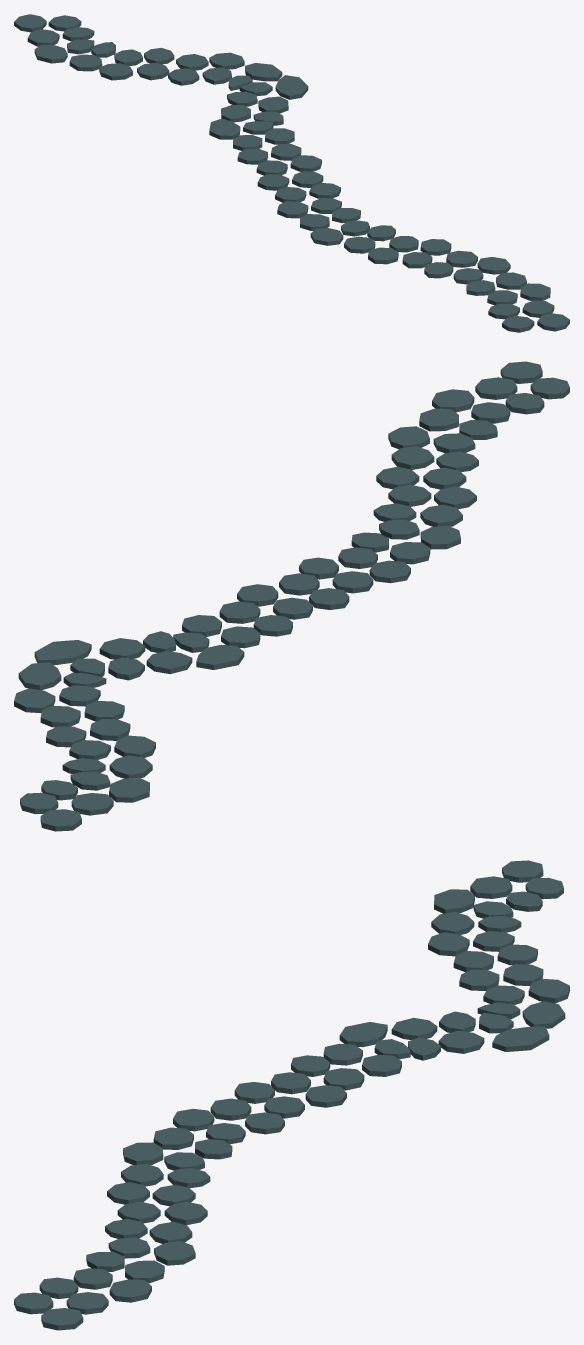
File: PebblePath.fbx
3 views of the same model, one above another, from view 1: azimuth 30°, elevation 25°; view 2: azimuth 150°, elevation 25°; view 3: azimuth 330°, elevation 25° (orthographic). The views are drawn at different scales.
Visible parts, largest first — view 1: Cube.002; view 2: Cube.002; view 3: Cube.002.
Boxes of the visible parts, x1,y1,x2,y2 form: Cube.002: (14,14,569,332); Cube.002: (14,361,569,831); Cube.002: (14,860,569,1330).
Bounding box in the file's own units: 593 × 12.8 × 2665.
